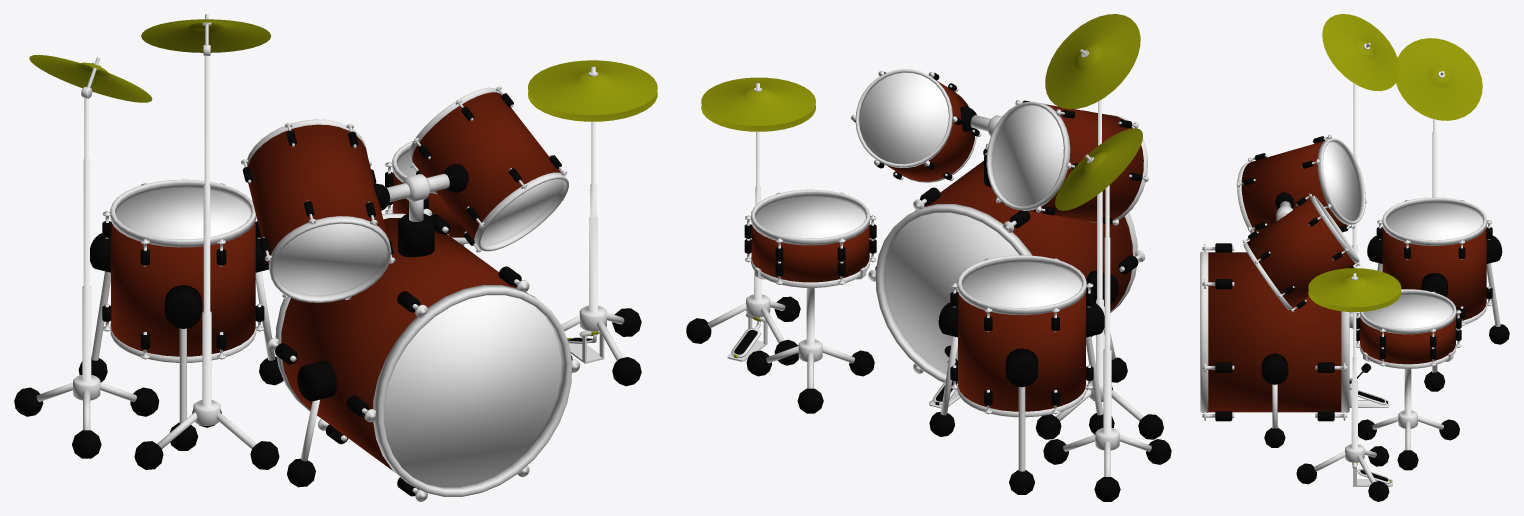
Rendered from ARDrumSet.glb.
3 views of the same model, side by side, from view 1: azimuth 30°, elevation 25°; view 2: azimuth 150°, elevation 25°; view 3: azimuth 270°, elevation 25° (orthographic). The views are drawn at different scales.
Visible parts, largest first — view 1: Kick, LowTom, MidTom, HighTom, HiHat, TallCrash, ShortCrash, Snare; view 2: Kick, LowTom, Snare, MidTom, HighTom, TallCrash, HiHat, ShortCrash; view 3: Kick, LowTom, Snare, MidTom, HighTom, HiHat, ShortCrash, TallCrash.
Boxes of the visible parts, left/top/right/bottom form: Kick: left=267, top=164, right=580, bottom=501; LowTom: left=78, top=179, right=283, bottom=450; MidTom: left=241, top=119, right=395, bottom=302; HighTom: left=408, top=86, right=568, bottom=252; HiHat: left=528, top=60, right=657, bottom=386; TallCrash: left=134, top=14, right=279, bottom=469; ShortCrash: left=14, top=55, right=159, bottom=458; Snare: left=385, top=141, right=468, bottom=246; Kick: left=868, top=106, right=1145, bottom=408; LowTom: left=929, top=255, right=1114, bottom=494; Snare: left=744, top=189, right=876, bottom=413; MidTom: left=985, top=100, right=1148, bottom=225; HighTom: left=851, top=69, right=981, bottom=182; TallCrash: left=1036, top=14, right=1163, bottom=439; HiHat: left=686, top=77, right=815, bottom=365; ShortCrash: left=1043, top=128, right=1171, bottom=501; Kick: left=1200, top=192, right=1389, bottom=447; LowTom: left=1367, top=197, right=1509, bottom=391; Snare: left=1356, top=289, right=1461, bottom=470; MidTom: left=1236, top=134, right=1366, bottom=233; HighTom: left=1242, top=193, right=1360, bottom=312; HiHat: left=1296, top=268, right=1401, bottom=501; ShortCrash: left=1396, top=38, right=1482, bottom=197; TallCrash: left=1322, top=14, right=1399, bottom=328.
Bounding box in the file's own units: 1.72 × 1.35 × 1.16.
